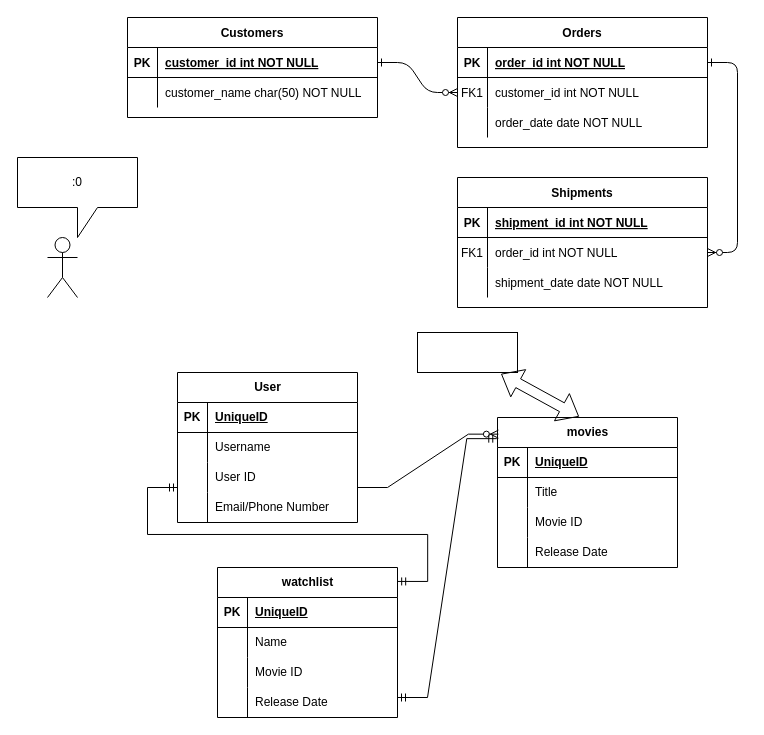
This 764x735 diagram has some shape labels left out. The shapes that lost their labels are listed below. From the top down, each one's centre as x and y in pixels, then its label:
At (62,267): "Actor".
At (467,352): "movie api".
